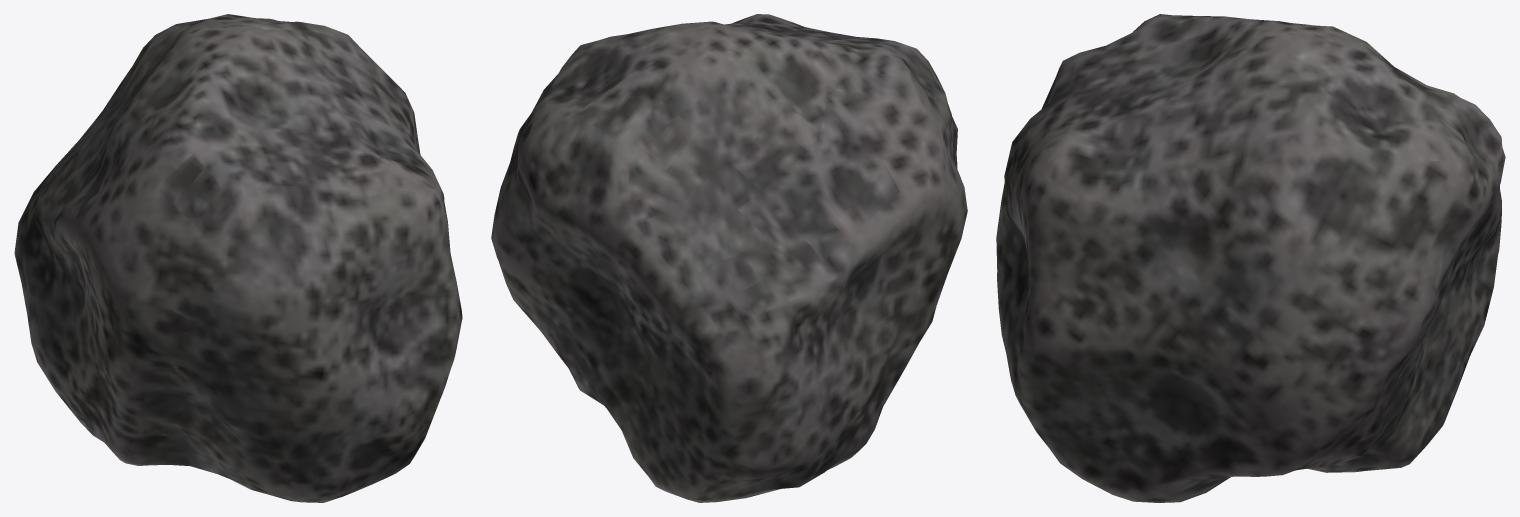
Rendered from asteroid_1.glb.
3 views of the same model, side by side, from view 1: azimuth 30°, elevation 25°; view 2: azimuth 150°, elevation 25°; view 3: azimuth 270°, elevation 25° (orthographic). The views are drawn at different scales.
Visible parts, largest first — view 1: asteroid_1; view 2: asteroid_1; view 3: asteroid_1.
Boxes of the visible parts, x1,y1,x2,y2 form: asteroid_1: (14,14,462,502); asteroid_1: (491,14,967,502); asteroid_1: (996,14,1505,502).
Size of the model in its own units: 1.53 by 1.66 by 1.7.
Materials: 1 (1 with a texture image).
